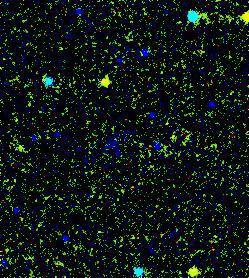star: (93, 66, 123, 96)
